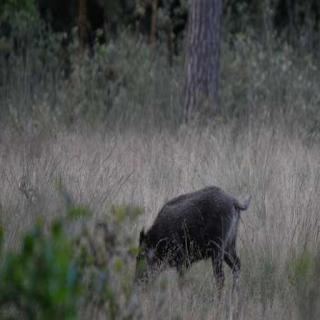Pig: (117, 177, 250, 284)
